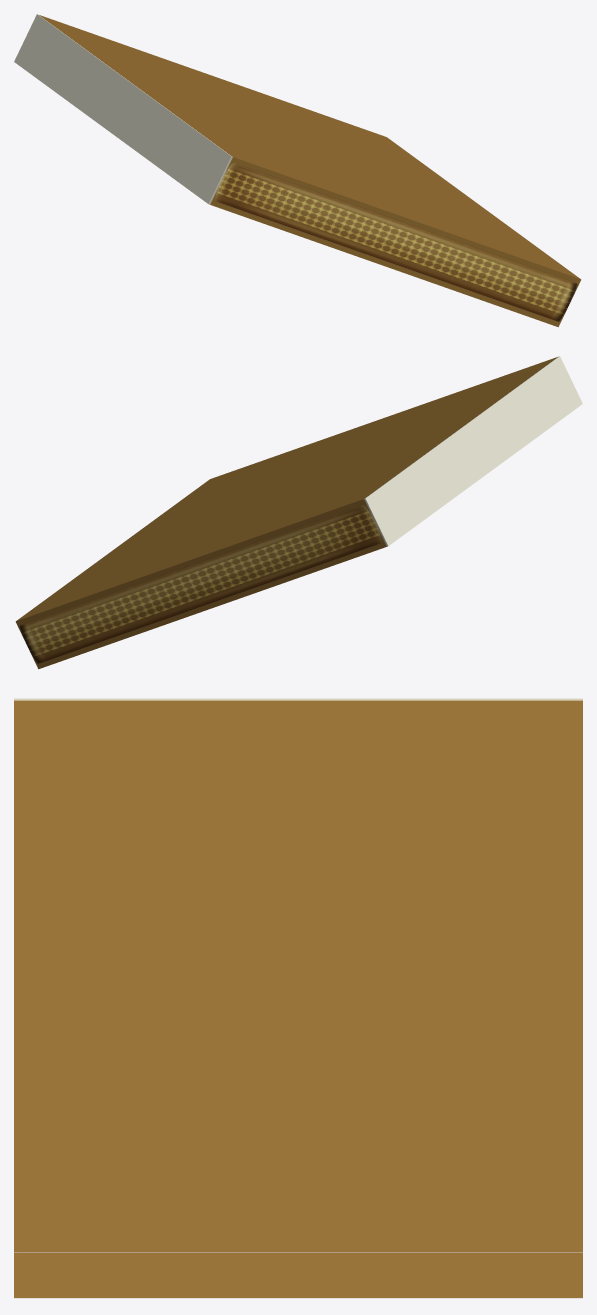
File: bookSmallYellow.fbx
The picture shows the model from 3 angles, top to bottom: view 1: azimuth 30°, elevation 25°; view 2: azimuth 150°, elevation 25°; view 3: azimuth 270°, elevation 25°; orthographic projection. The views are drawn at different scales.
Parts seen in each view (by area): view 1: book yellow small; view 2: book yellow small; view 3: book yellow small.
Part boxes in pixels (box(x1,y1,x2,y2)): book yellow small: box(14, 14, 581, 327); book yellow small: box(15, 356, 582, 669); book yellow small: box(14, 698, 582, 1298).
Bounding box in the file's own units: 15.06 × 13.56 × 9.67.
1 material, 1 textured.
